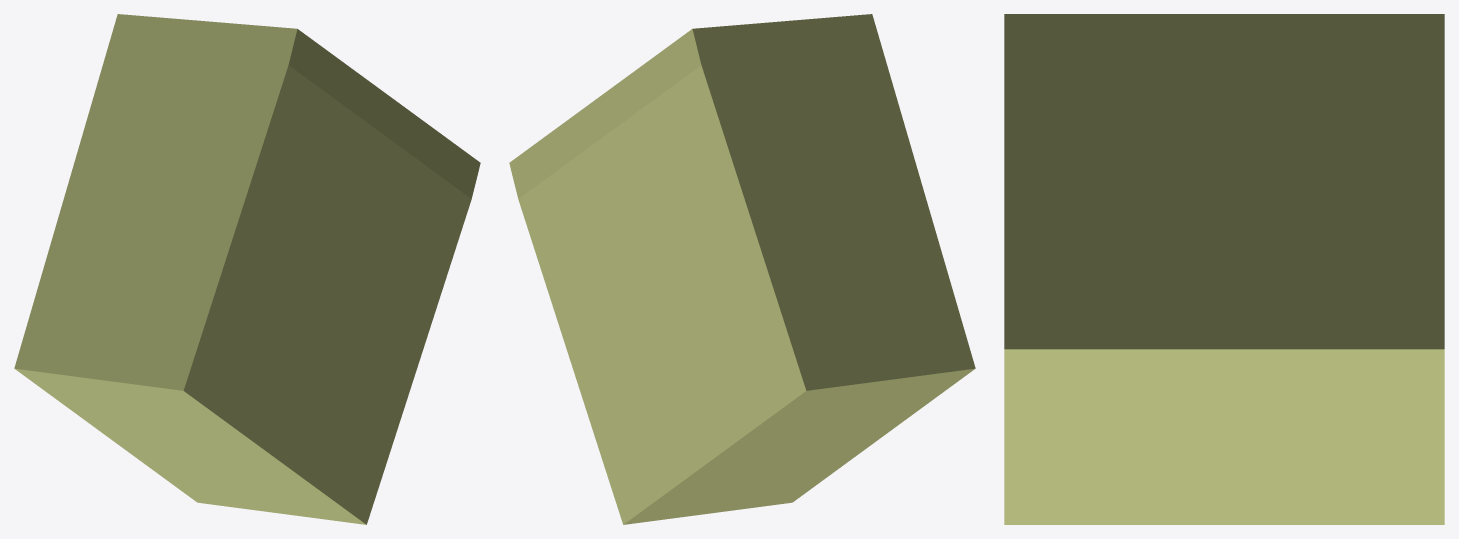
3 renders of one model, left to right at view 1: azimuth 30°, elevation 25°; view 2: azimuth 150°, elevation 25°; view 3: azimuth 270°, elevation 25°, orthographic. The views are drawn at different scales.
Parts seen in each view (by area): view 1: 0_1_1_3_3_0_1_2_2_2_0; view 2: 0_1_1_3_3_0_1_2_2_2_0; view 3: 0_1_1_3_3_0_1_2_2_2_0.
Boxes of the visible parts, x1,y1,x2,y2 form: 0_1_1_3_3_0_1_2_2_2_0: (14,14,480,524); 0_1_1_3_3_0_1_2_2_2_0: (509,14,975,524); 0_1_1_3_3_0_1_2_2_2_0: (1004,14,1444,524).
Size of the model in its own units: 8.04 by 10.65 by 9.
